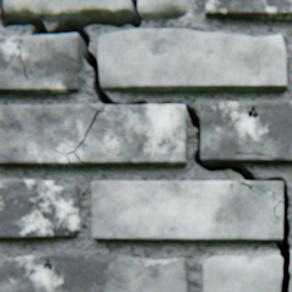brick: (0, 105, 187, 167), (99, 30, 286, 92), (92, 182, 282, 241), (0, 255, 189, 291), (201, 103, 291, 164), (0, 35, 82, 95), (0, 180, 80, 239), (205, 0, 291, 21)
broken_brick: (204, 255, 282, 291), (5, 0, 132, 22), (139, 0, 189, 20), (289, 255, 291, 291)
crack: (0, 0, 290, 291), (55, 105, 103, 163), (19, 41, 29, 82), (234, 153, 280, 161), (256, 186, 274, 198), (6, 51, 17, 69), (238, 181, 254, 189), (248, 108, 258, 118), (273, 206, 279, 221), (44, 260, 52, 270)
